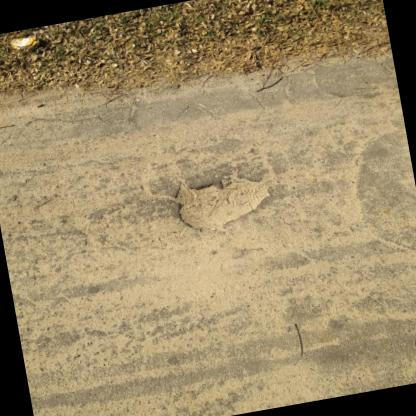pothole: (167, 162, 278, 234)
